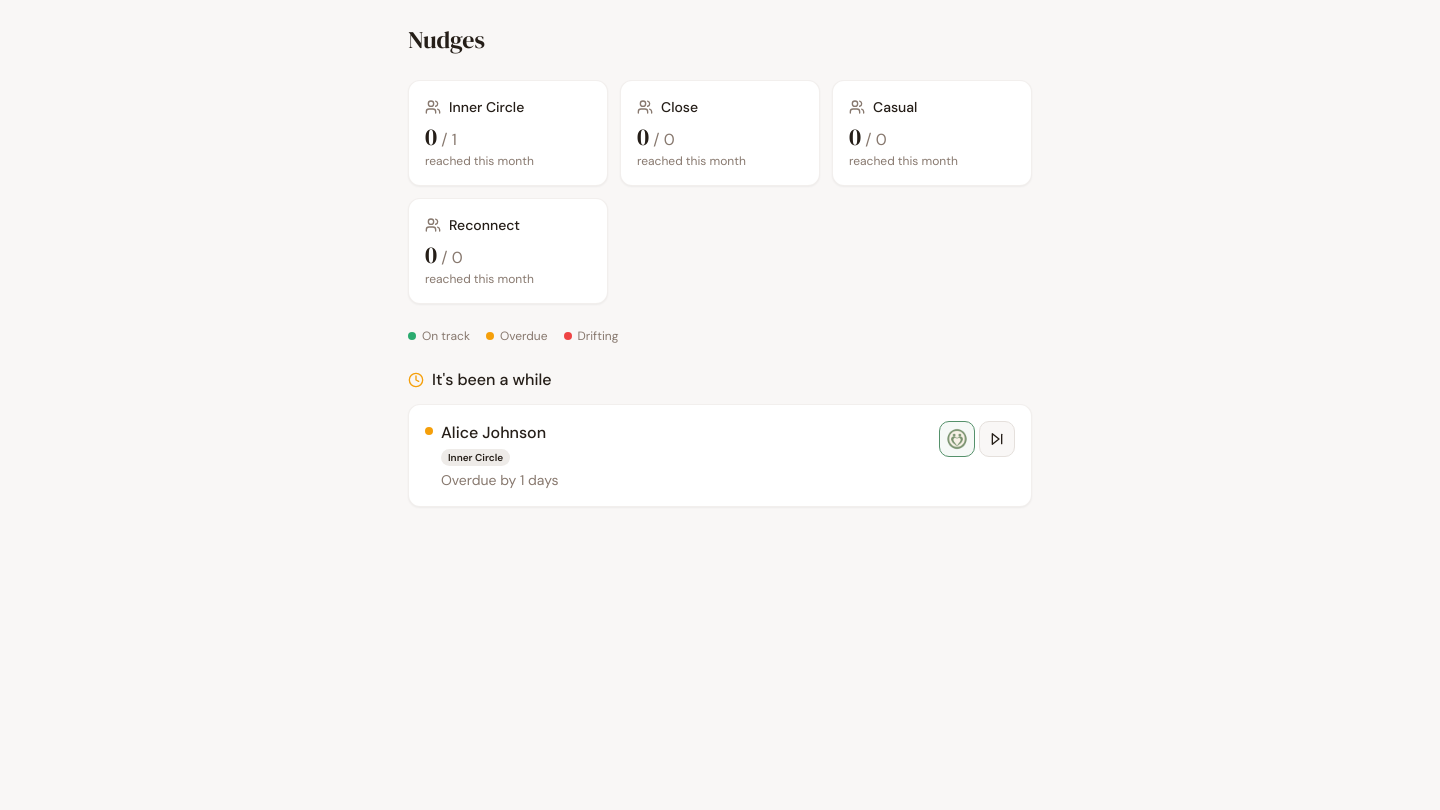
Test case: Index (Dashboard) › explains Skip and only reschedules after confirmation
Later steps or results of the test are not shown.
Click the button named "Skip nudge for Alice Johnson" at (997, 439), box [979,421,1015,457]
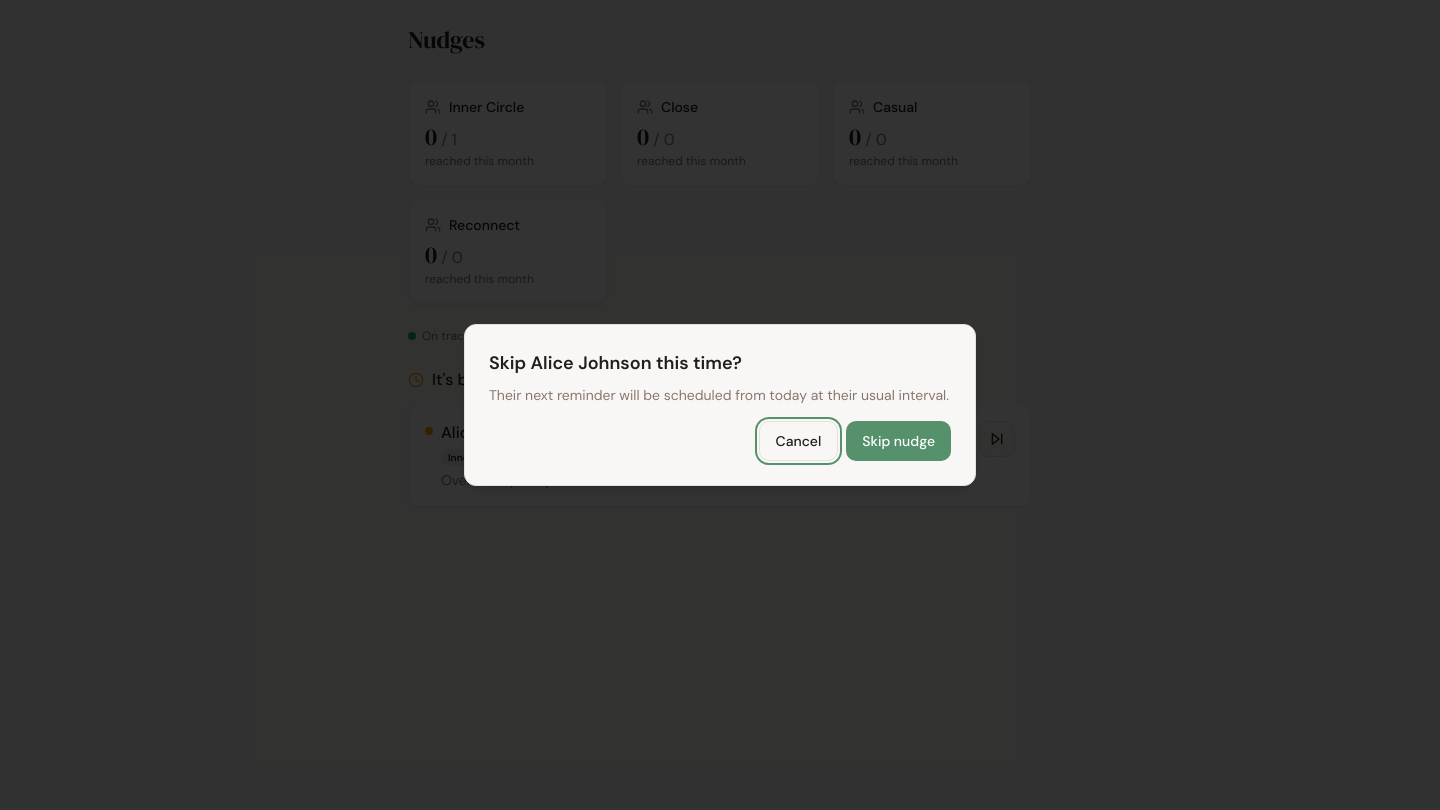
Result: the heading "Skip Alice Johnson this time?" is shown at [489,351,742,375]
Result: the text "next reminder will be scheduled from today at their usual interval" is shown at [489,386,949,404]
